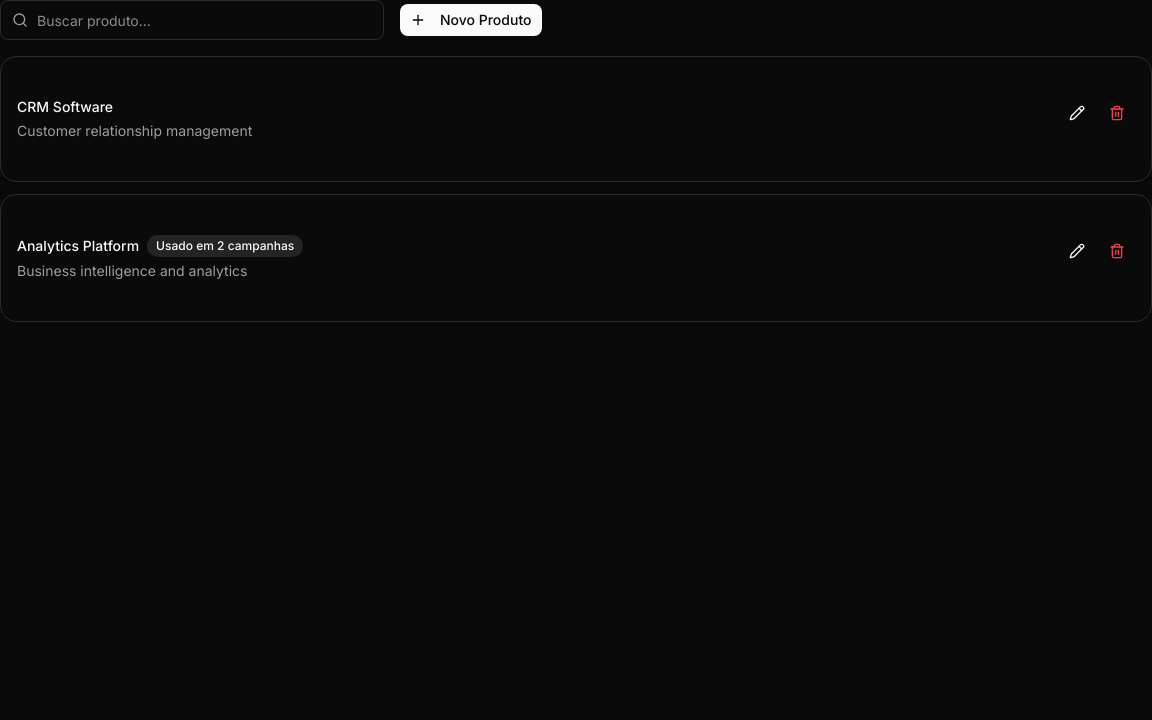
ProductList (AC: #2, #7) › Delete Product › shows warning for product with campaigns
The width and height of the screenshot is (1152, 720).
Click the button named "Excluir produto" in the row of "campanhas": (1117, 251) [1099, 235, 1135, 267]
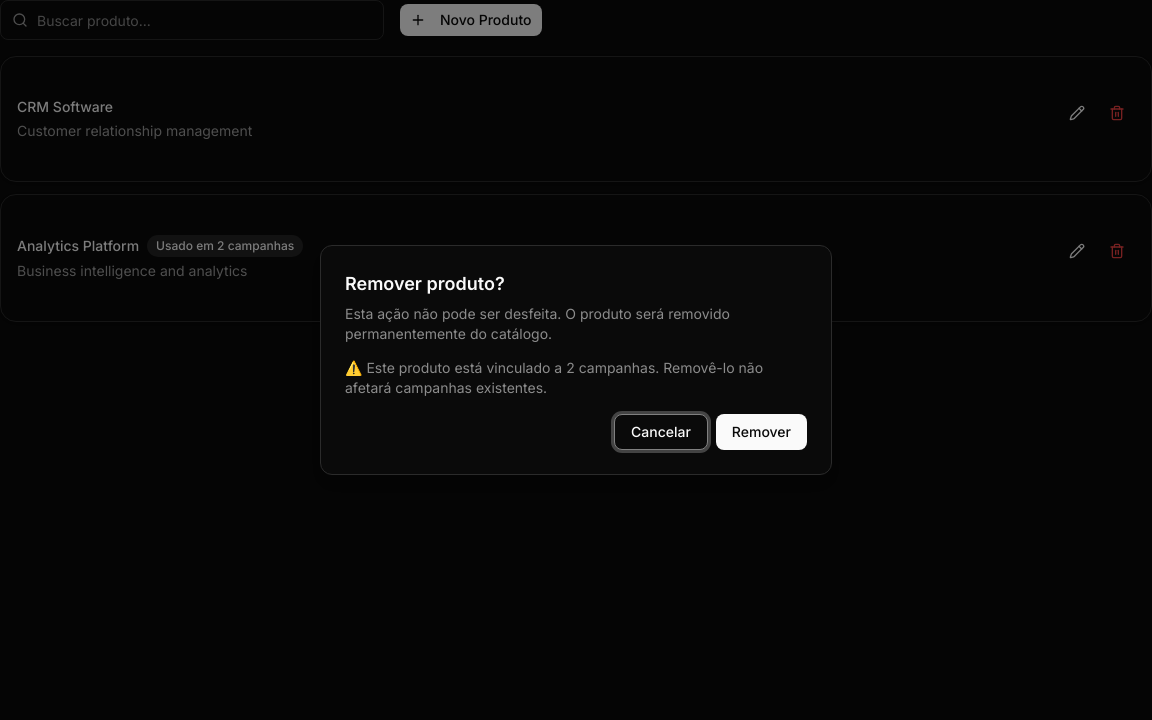
Check: the text "Este produto está vinculado a 2 campanhas" is shown, box [345, 358, 807, 398]
